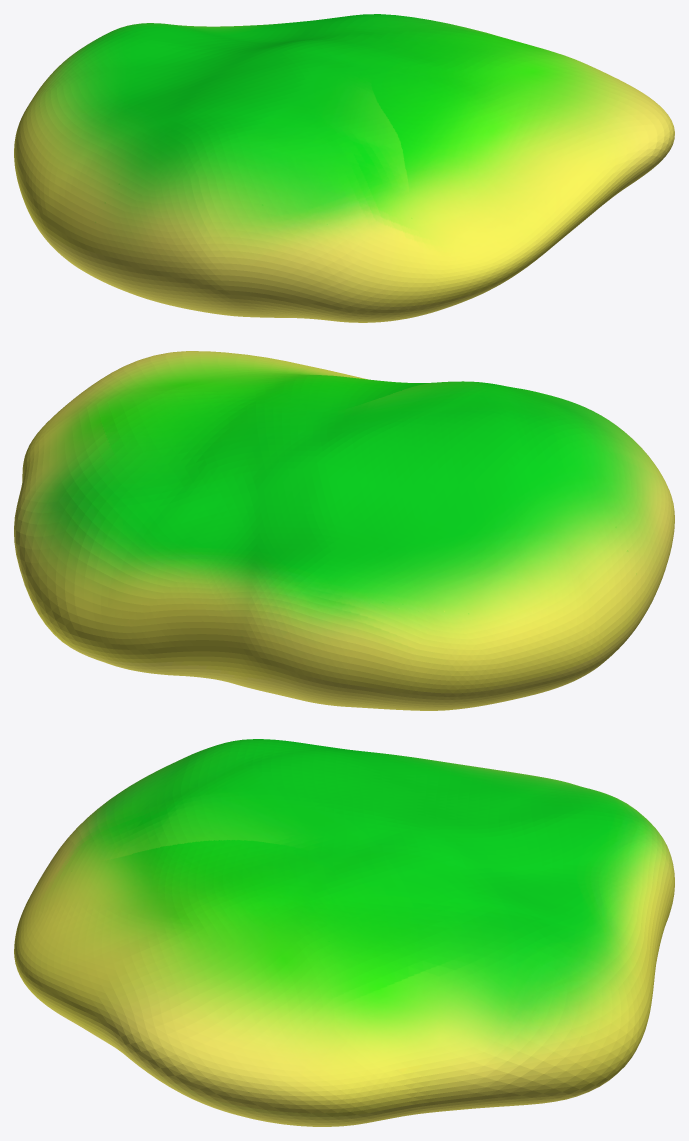
Rendered from island.glb.
3 renders of one model, top to bottom at view 1: azimuth 30°, elevation 25°; view 2: azimuth 150°, elevation 25°; view 3: azimuth 270°, elevation 25°, orthographic. The views are drawn at different scales.
Parts seen in each view (by area): view 1: Icosphere; view 2: Icosphere; view 3: Icosphere.
Part boxes in pixels (x1=…): Icosphere: x1=14, y1=14, x2=674, y2=322; Icosphere: x1=14, y1=351, x2=674, y2=710; Icosphere: x1=14, y1=739, x2=674, y2=1126.
Bounding box in the file's own units: 50.49 × 18.58 × 45.7.
1 material, 1 textured.
